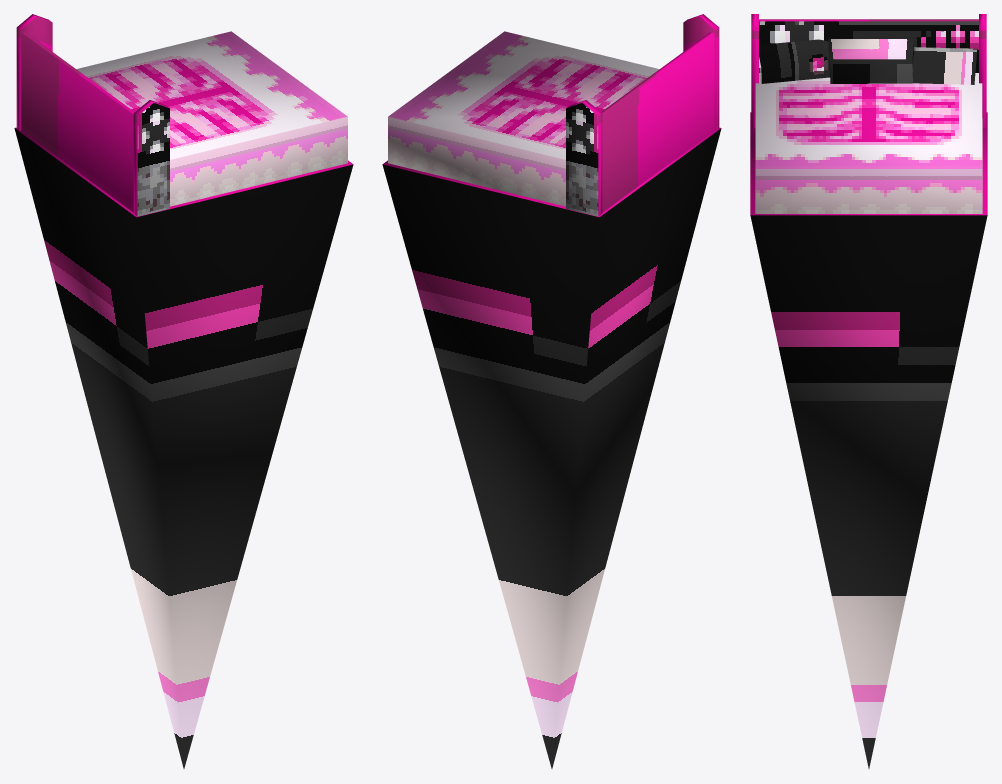
3 views of the same model, side by side, from view 1: azimuth 30°, elevation 25°; view 2: azimuth 150°, elevation 25°; view 3: azimuth 270°, elevation 25° (orthographic). The views are drawn at different scales.
Parts seen in each view (by area): view 1: 3677kg_gl_bed; view 2: 3677kg_gl_bed; view 3: 3677kg_gl_bed.
Part boxes in pixels (bbox=[...]): 3677kg_gl_bed: bbox=[14, 14, 353, 768]; 3677kg_gl_bed: bbox=[382, 14, 721, 768]; 3677kg_gl_bed: bbox=[750, 14, 987, 768].
Bounding box in the file's own units: 1.9 × 6.14 × 1.85.
Materials: 3 (3 with a texture image).
